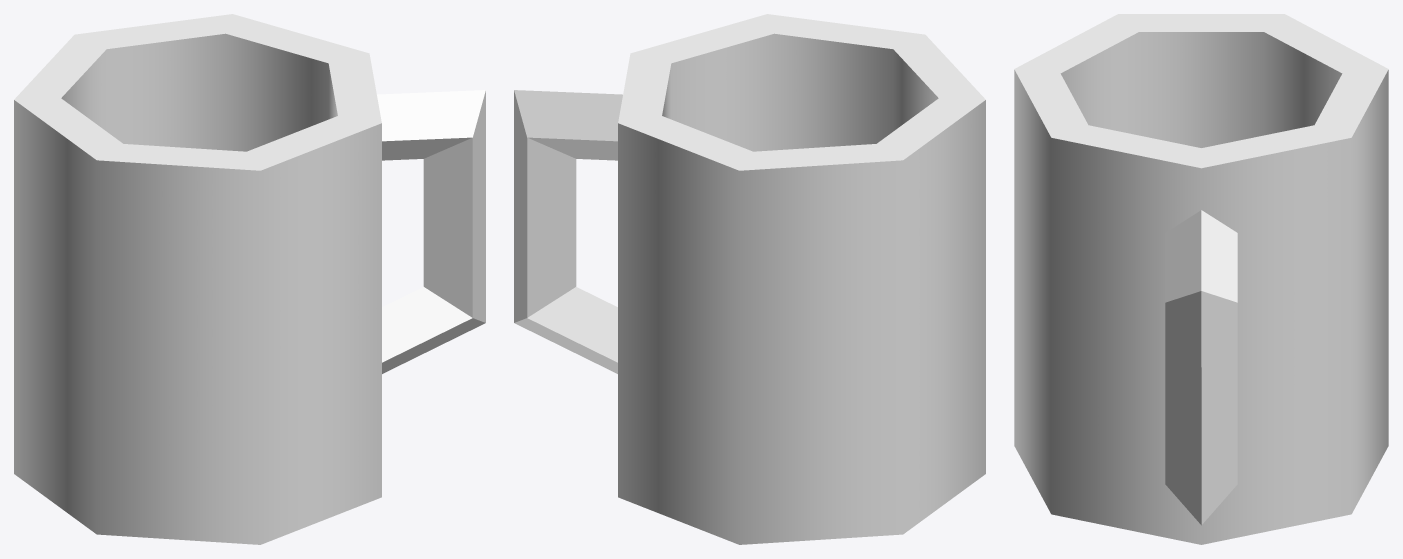
The model's file is Cup_01.fbx.
3 renders of one model, left to right at view 1: azimuth 30°, elevation 25°; view 2: azimuth 150°, elevation 25°; view 3: azimuth 270°, elevation 25°, orthographic.
Visible parts, largest first — view 1: Cylinder001; view 2: Cylinder001; view 3: Cylinder001.
Boxes of the visible parts, left/top/right/bottom form: Cylinder001: left=14, top=14, right=485, bottom=544; Cylinder001: left=514, top=14, right=985, bottom=544; Cylinder001: left=1014, top=14, right=1388, bottom=544.
Size of the model in its own units: 21.1 by 17.52 by 15.79.
